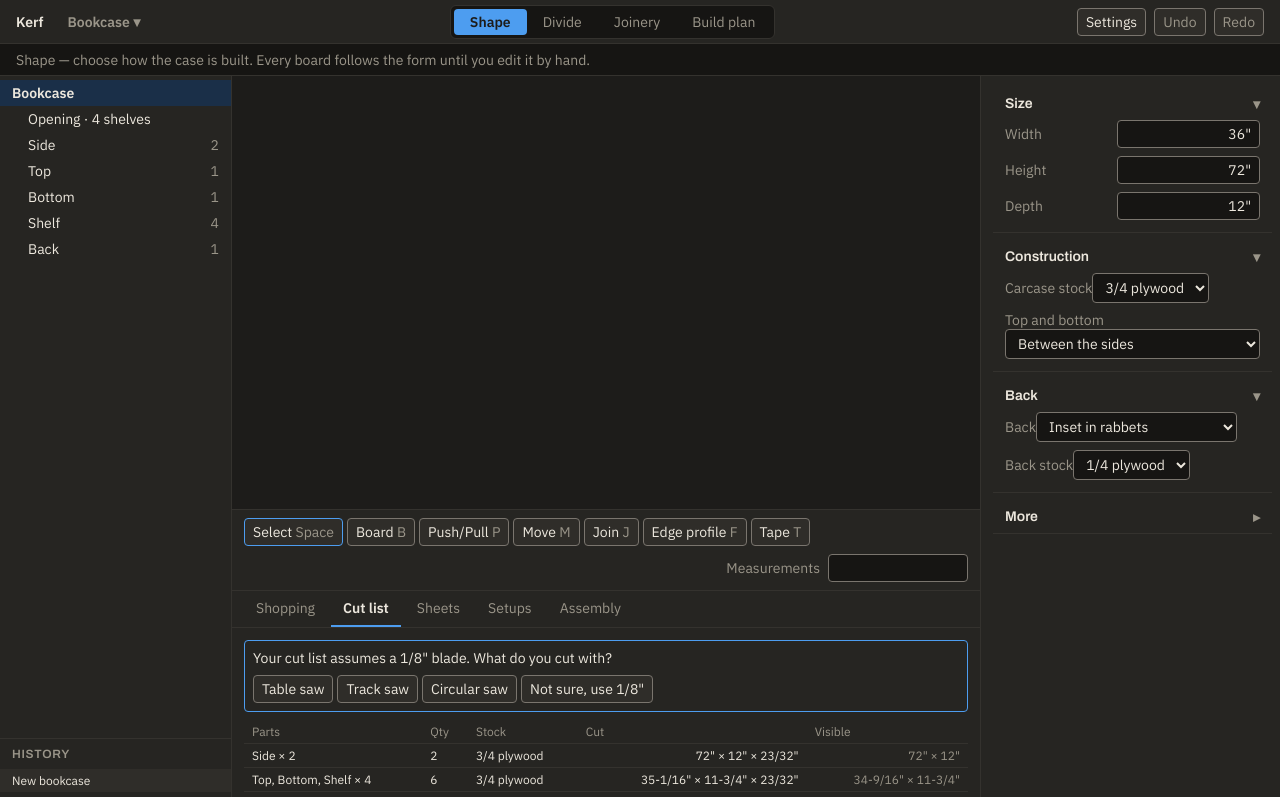
Test case: <TopBar> Kerf button and project menu › lists Rename, Duplicate, Download .kerf file and Back to Home, and no Delete
Click the button "Bookcase ▾" at (104, 22), box 60,8 -> 148,34
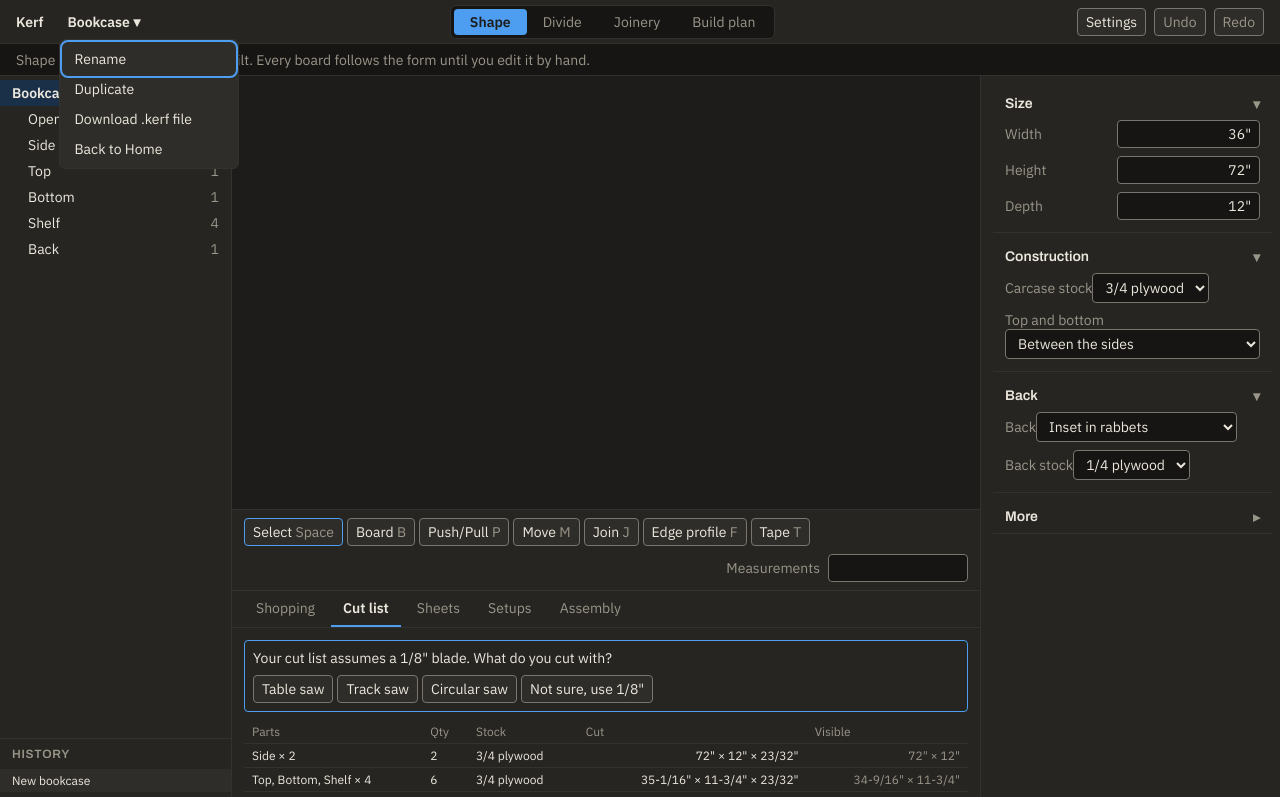
Result: the menu items read "Rename", "Duplicate", "Download .kerf file", "Back to Home", in this order at 64,44 -> 234,74; 64,74 -> 234,104; 64,104 -> 234,134; 64,134 -> 234,164
